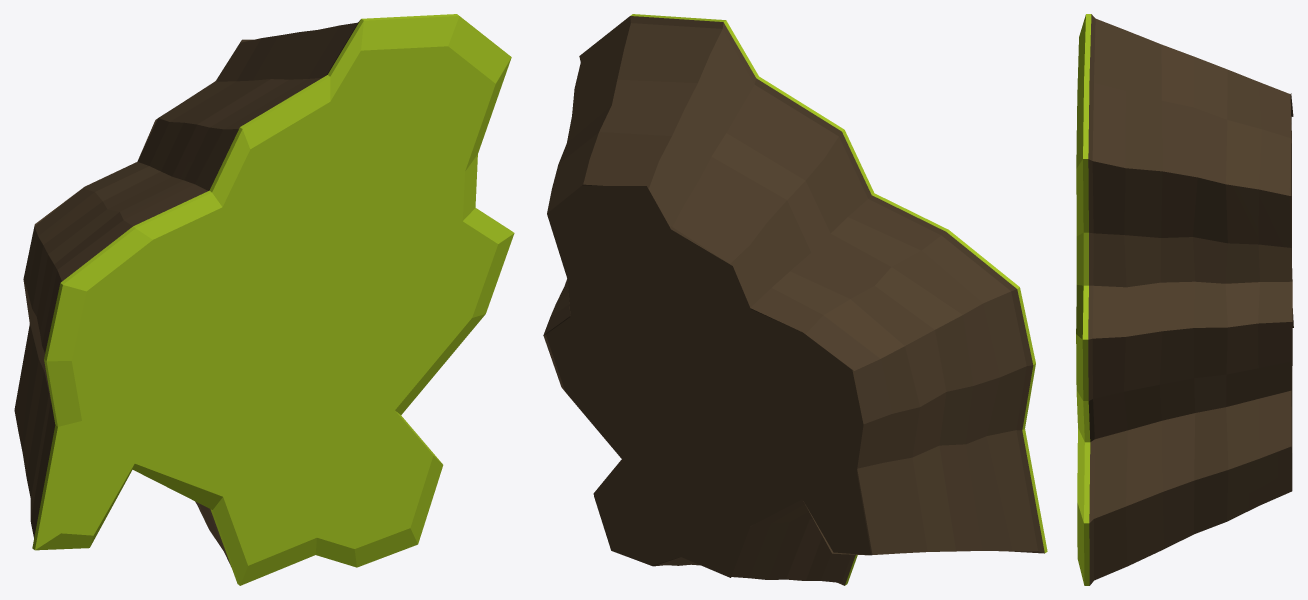
File: Cliff5.fbx
3 renders of one model, left to right at view 1: azimuth 30°, elevation 25°; view 2: azimuth 150°, elevation 25°; view 3: azimuth 270°, elevation 25°, orthographic. The views are drawn at different scales.
Parts seen in each view (by area): view 1: Cliff_Large_2; view 2: Cliff_Large_2; view 3: Cliff_Large_2.
Part boxes in pixels (bbox=[...]): Cliff_Large_2: bbox=[14, 14, 514, 585]; Cliff_Large_2: bbox=[543, 14, 1047, 585]; Cliff_Large_2: bbox=[1076, 14, 1293, 585].
Bounding box in the file's own units: 25.07 × 27.48 × 9.79.
